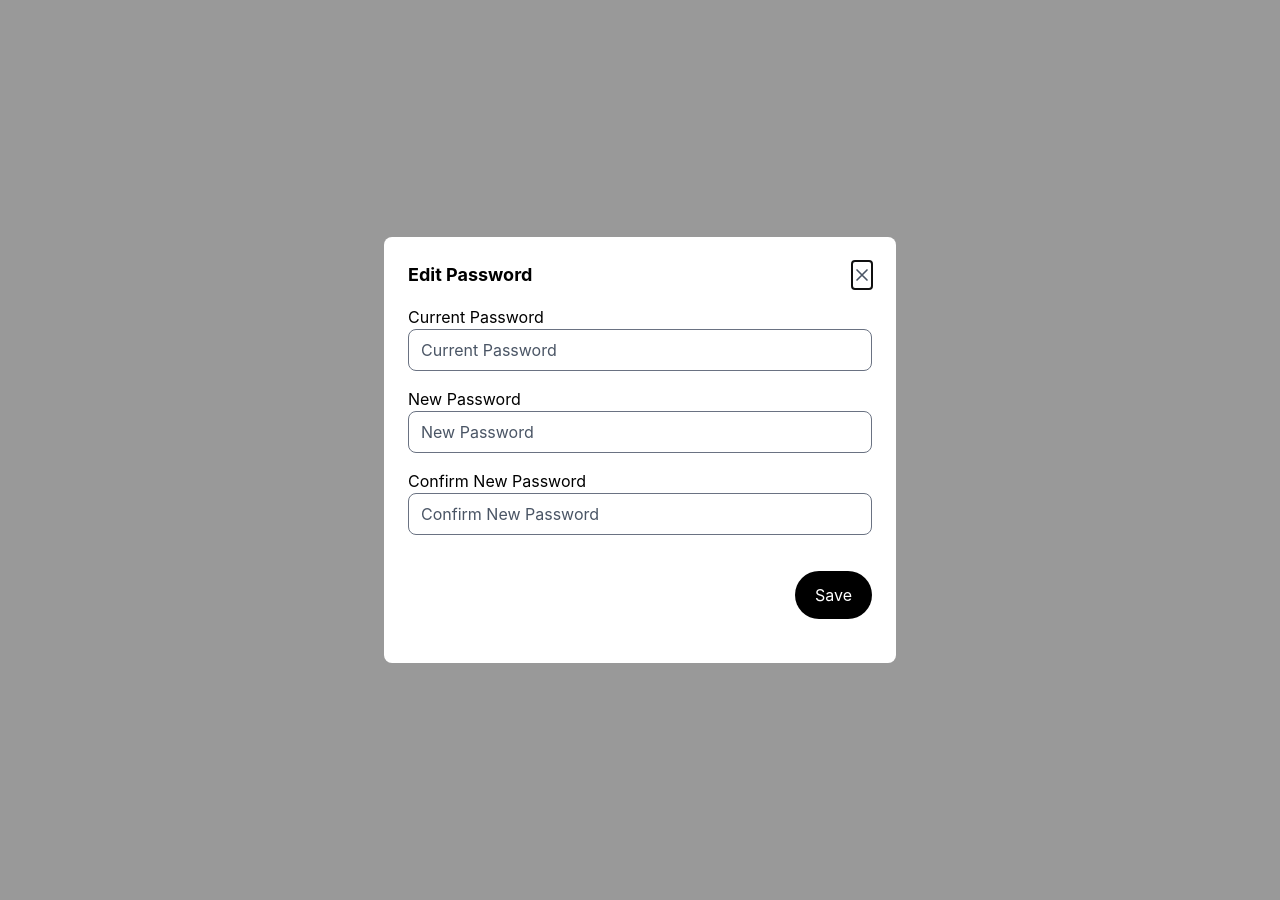
Scenario: shows a failure message when submitted with empty fields
The image size is (1280, 900).
Click the button "Save" at (834, 595), box x1=795 y1=571 x2=872 y2=619
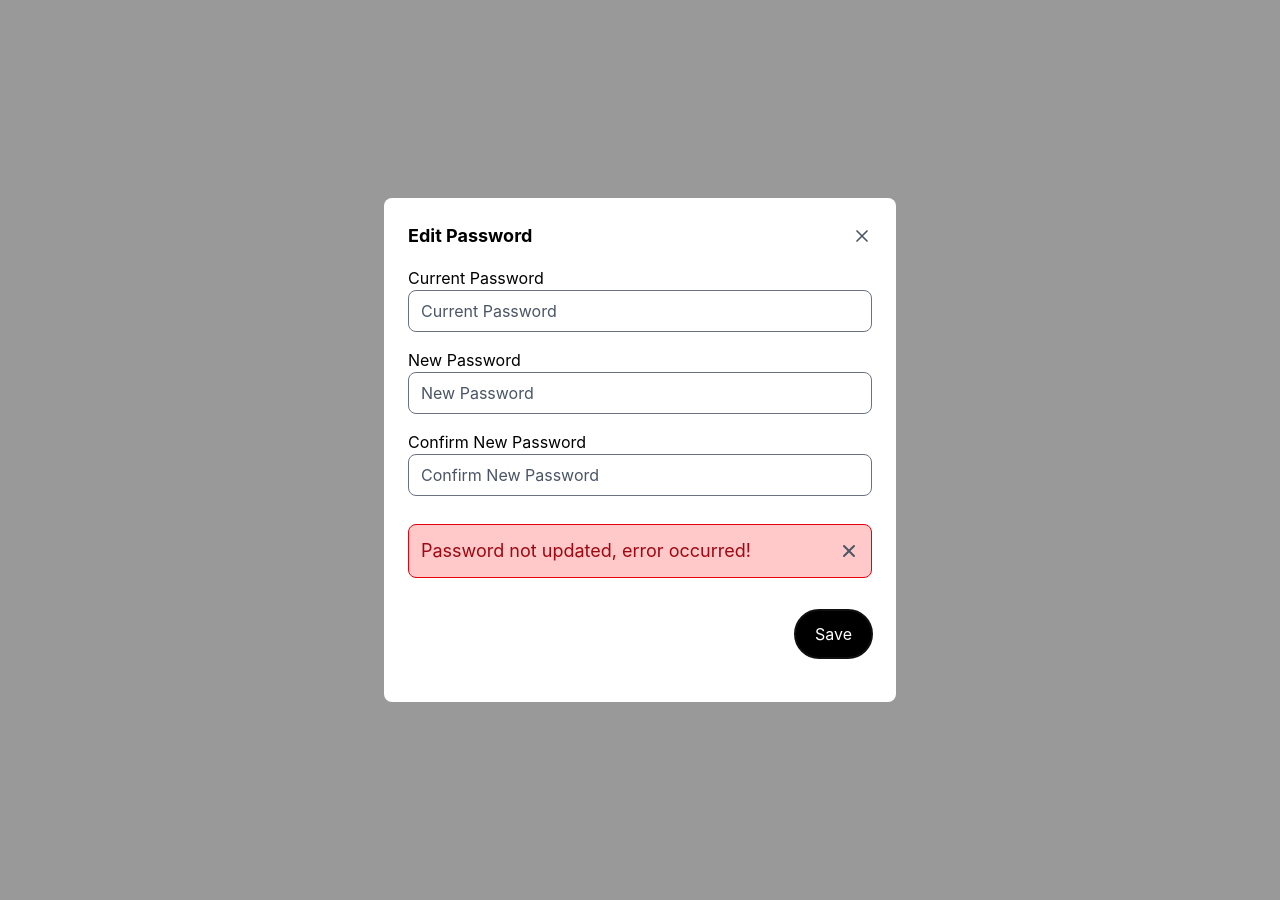
Expected: the message reads "Password not updated, error occurred!", x1=421 y1=540 x2=751 y2=561
